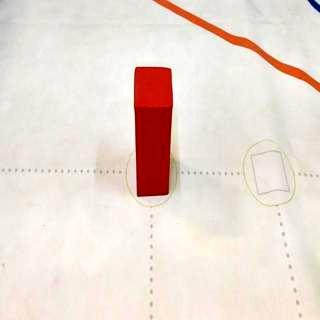redbox: (135, 66, 173, 196)
